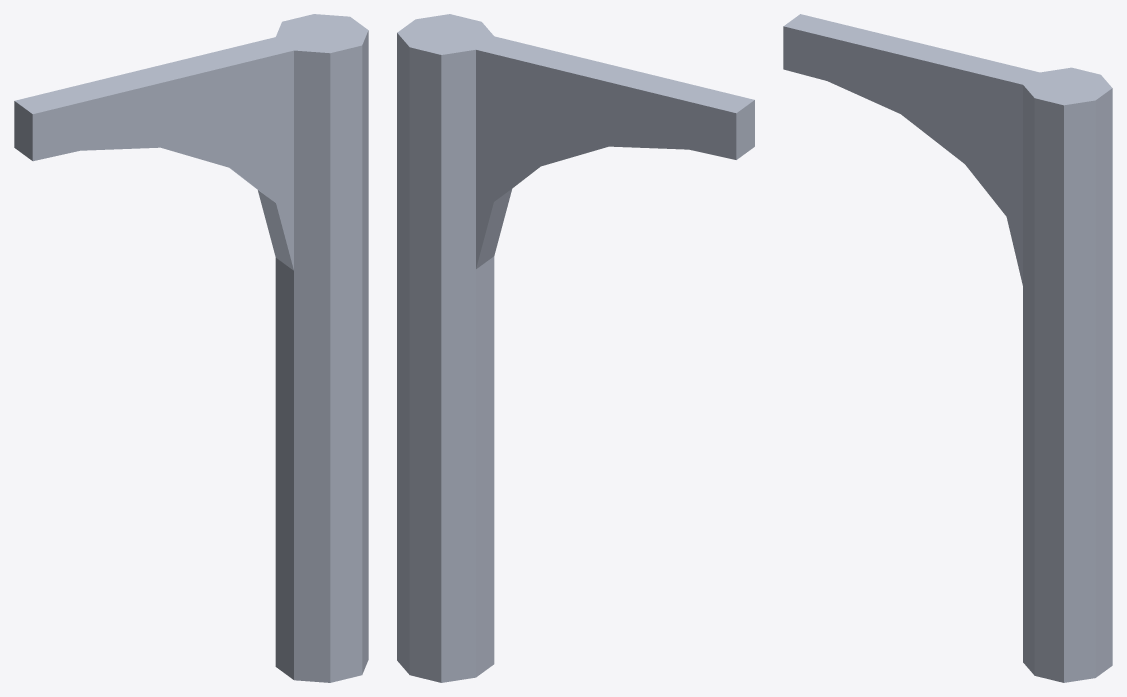
File: stage4_2_arch_ex2.fbx
3 renders of one model, left to right at view 1: azimuth 30°, elevation 25°; view 2: azimuth 150°, elevation 25°; view 3: azimuth 330°, elevation 25°, orthographic. The views are drawn at different scales.
Parts seen in each view (by area): view 1: ex_hasira; view 2: ex_hasira; view 3: ex_hasira.
Boxes of the visible parts, box(x1,y1,x2,y2) form: ex_hasira: box(14, 14, 368, 682); ex_hasira: box(397, 14, 754, 682); ex_hasira: box(783, 14, 1112, 682).
Size of the model in its own units: 1128 by 2008 by 256.
